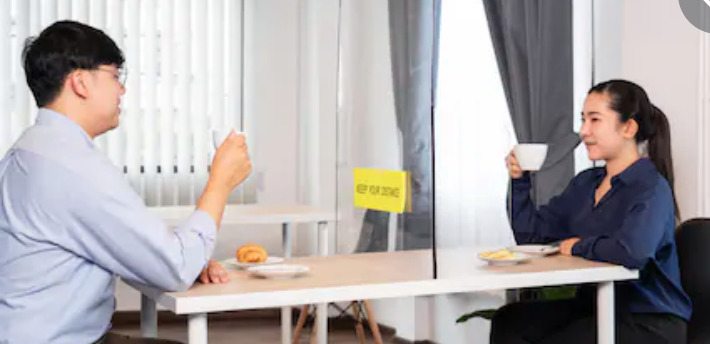Caution: (4, 18, 690, 341)
